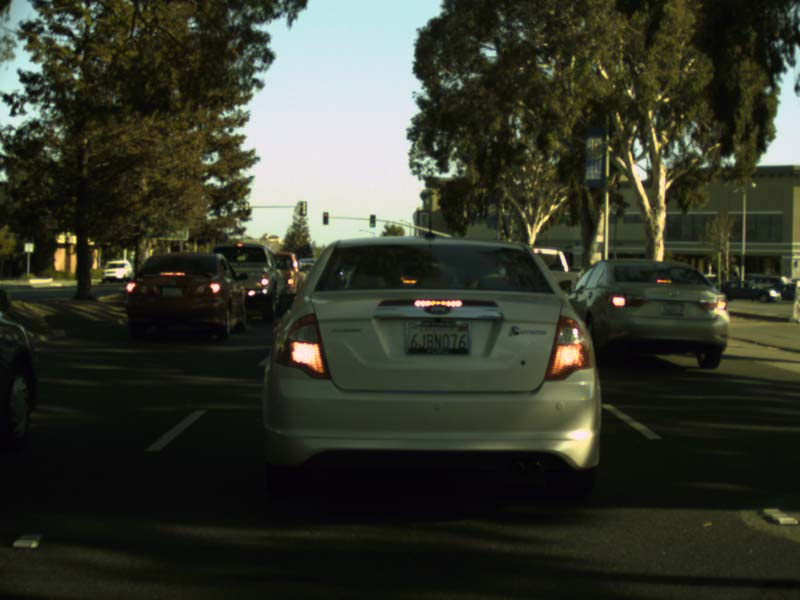Green: (370, 215, 375, 227)
Red: (323, 212, 327, 224)
